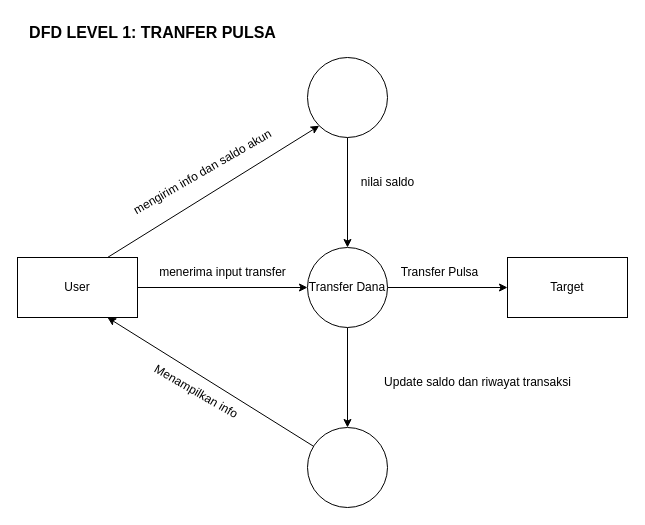
This 645x525 diagram has some shape labels left out. The centre of each missing label's shape, as x and y in pixels:
"Informasi Akun" belongs at [347,97].
"Riwayat Transaksi" belongs at [347,467].
